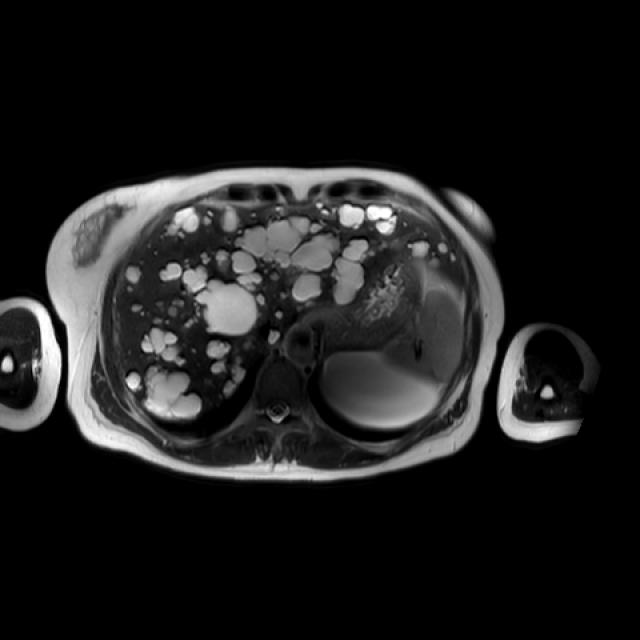sol: (326, 350, 437, 426)
